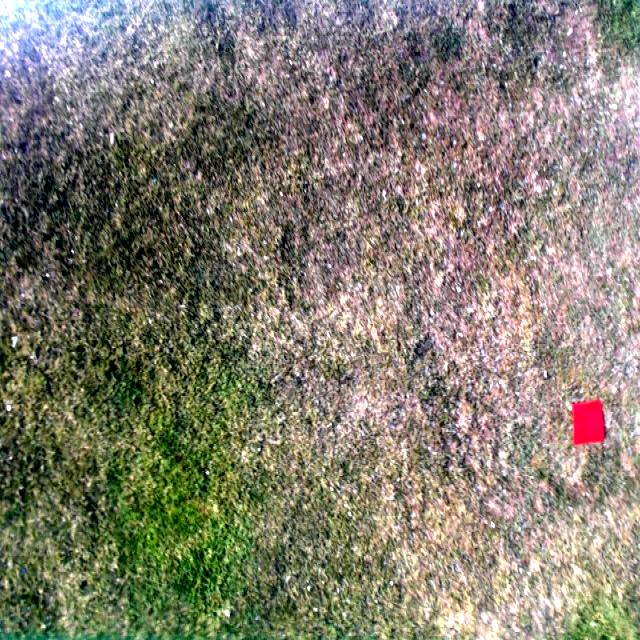red_square: (572, 400, 605, 442)
